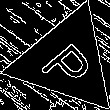P_NE: (33, 31, 99, 92)
